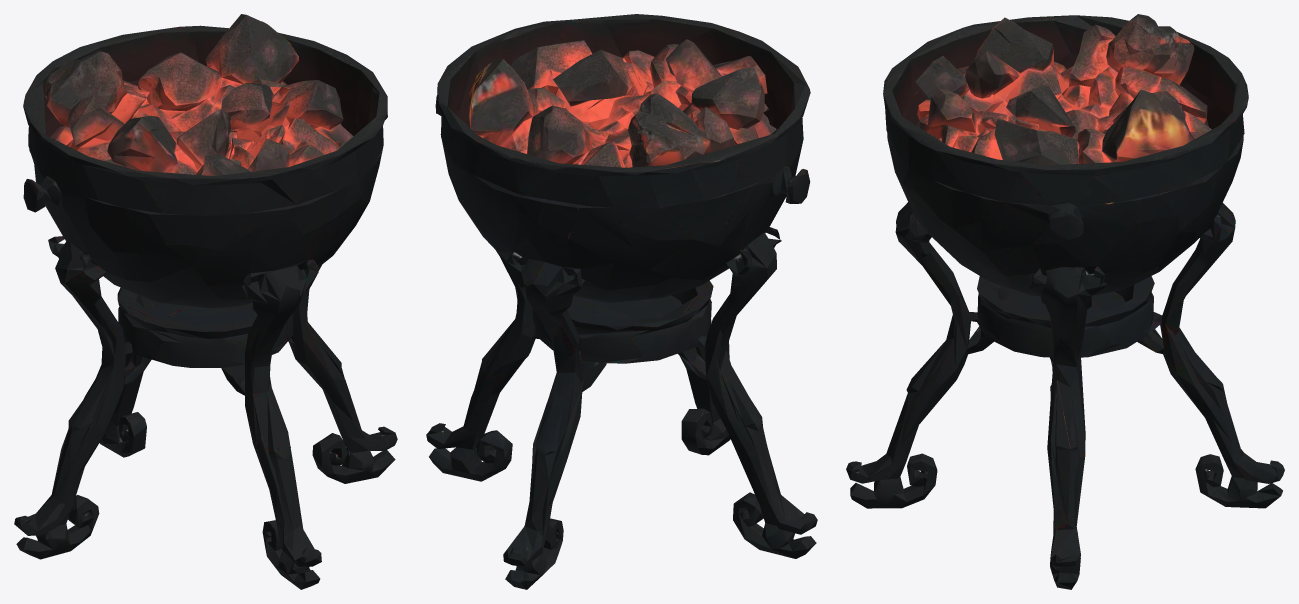
Rendered from brazier.glb.
3 views of the same model, side by side, from view 1: azimuth 30°, elevation 25°; view 2: azimuth 150°, elevation 25°; view 3: azimuth 270°, elevation 25° (orthographic). The views are drawn at different scales.
Size of the model in its own units: 1.65 by 1.9 by 1.66.
1 material, 1 textured.
